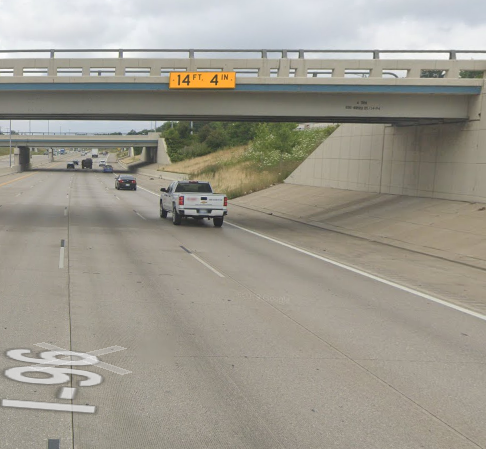1: (174, 71, 182, 88)
4: (179, 71, 192, 89), (208, 71, 221, 88)
overheadsign: (168, 70, 238, 92)
